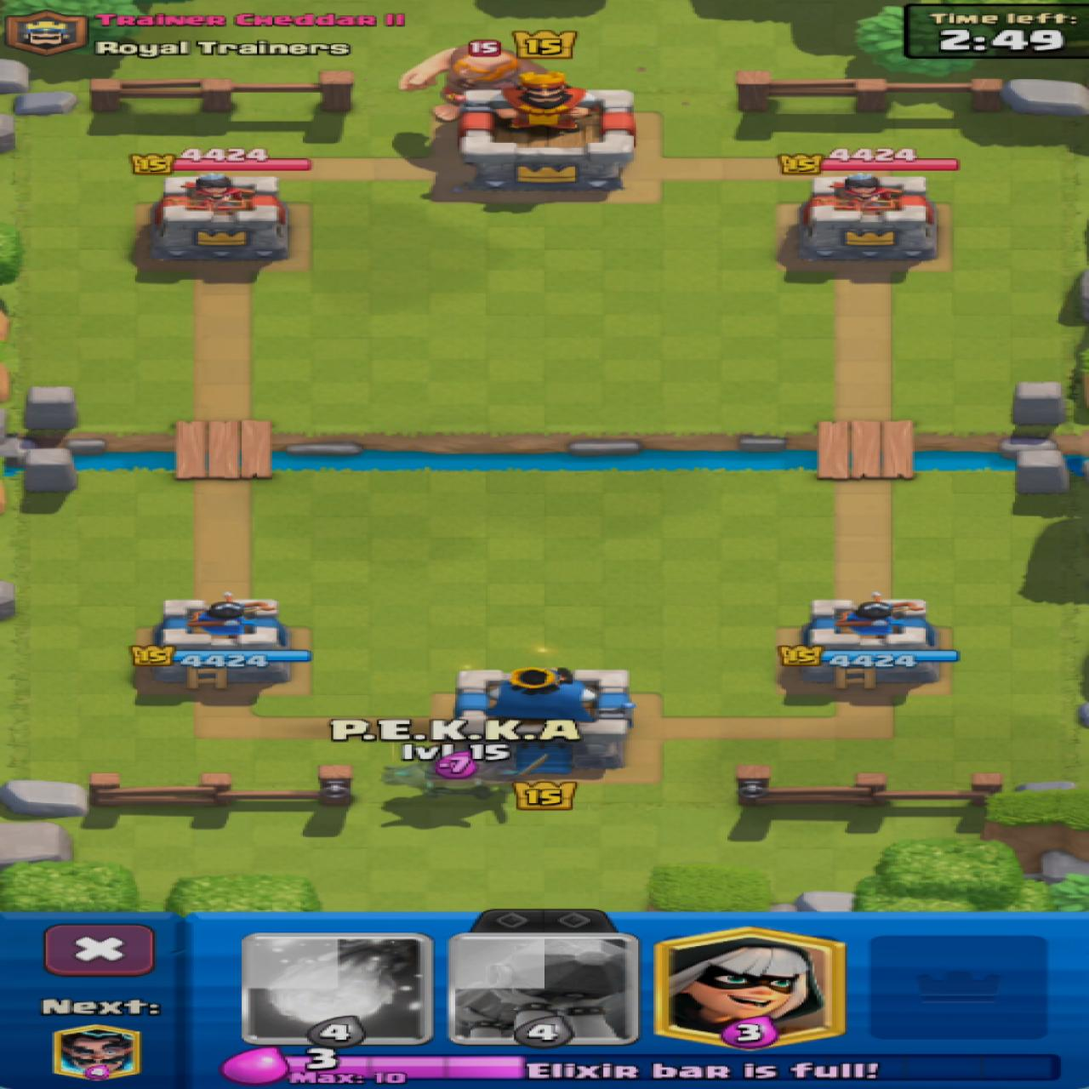Enemy-Giant: (401, 45, 544, 120)
Enemy-KingTower: (457, 73, 634, 193)
Enemy-PrincessTower: (148, 175, 287, 263), (799, 174, 934, 262)
